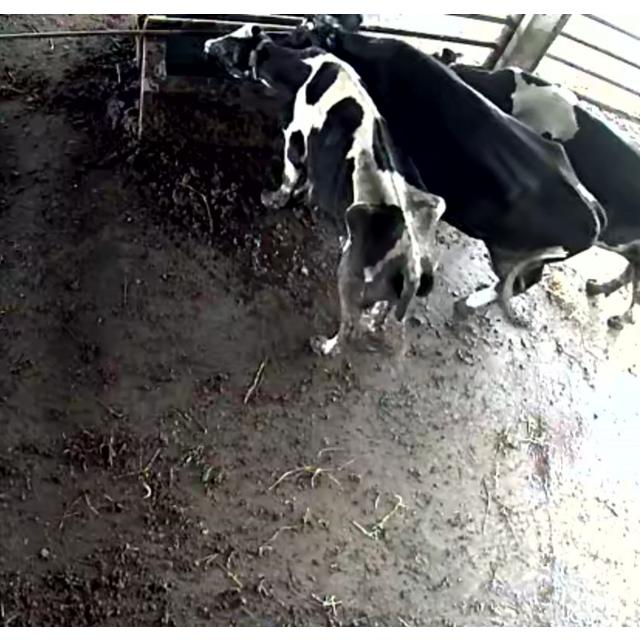drink: (198, 25, 326, 119), (286, 15, 422, 86)
